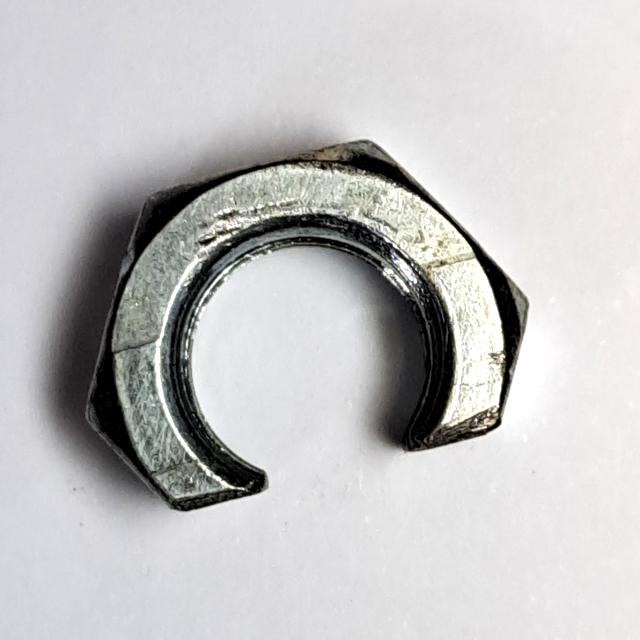Fracture: (70, 130, 545, 529)
